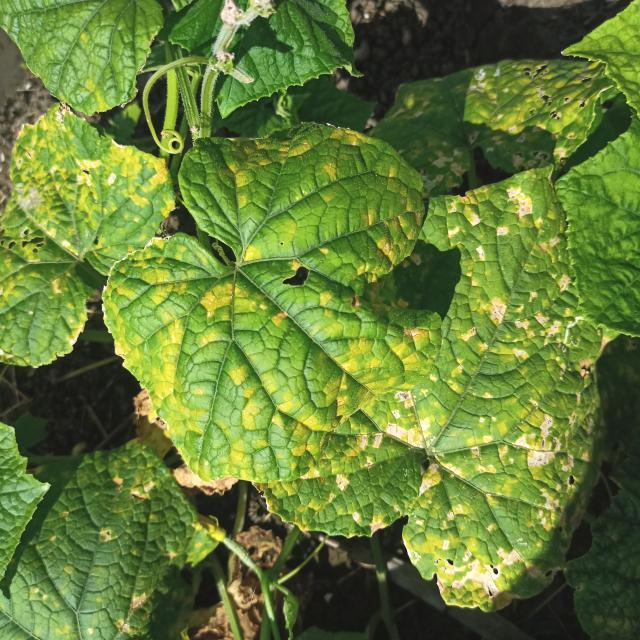disease_cucumber: (105, 123, 439, 480), (401, 200, 610, 599), (0, 111, 178, 281), (395, 67, 614, 201)
